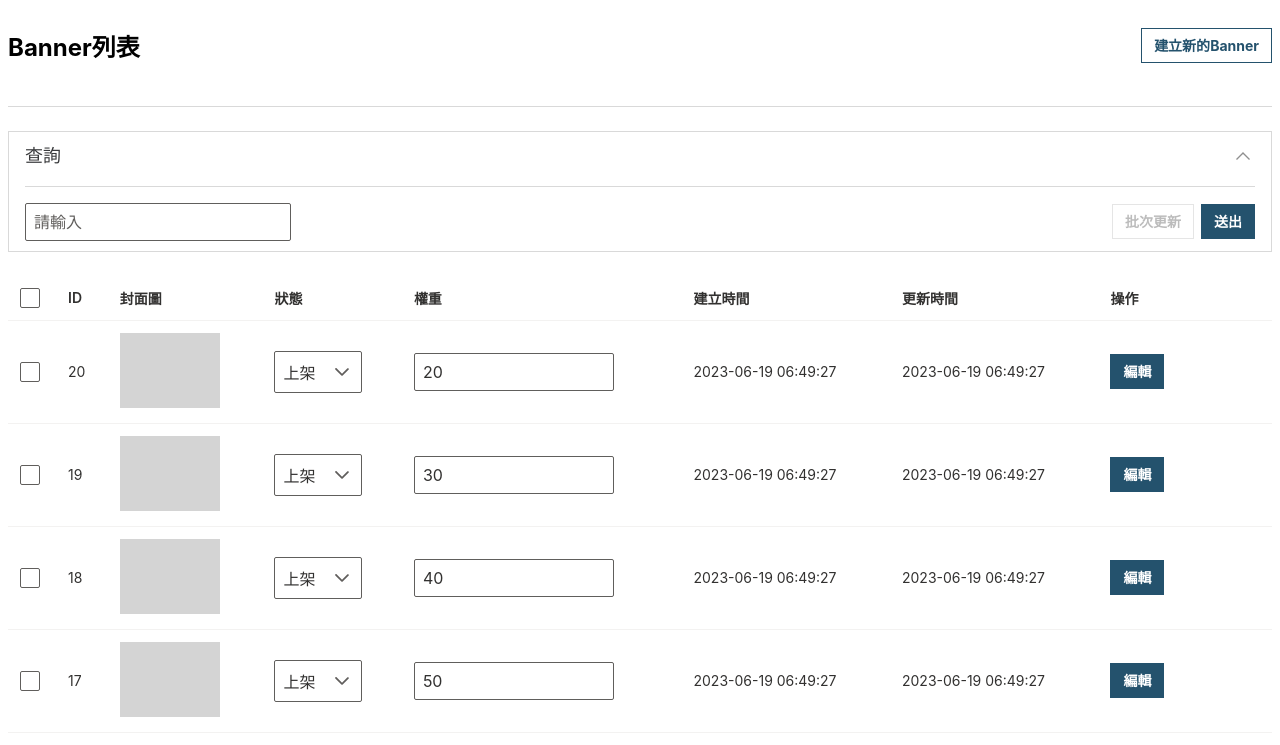
Test: ContentListPage › Banner › update button should be disabled again after changing back to default value
Type "24" into the 2nd field at point(514, 372), box [414,353,614,391]
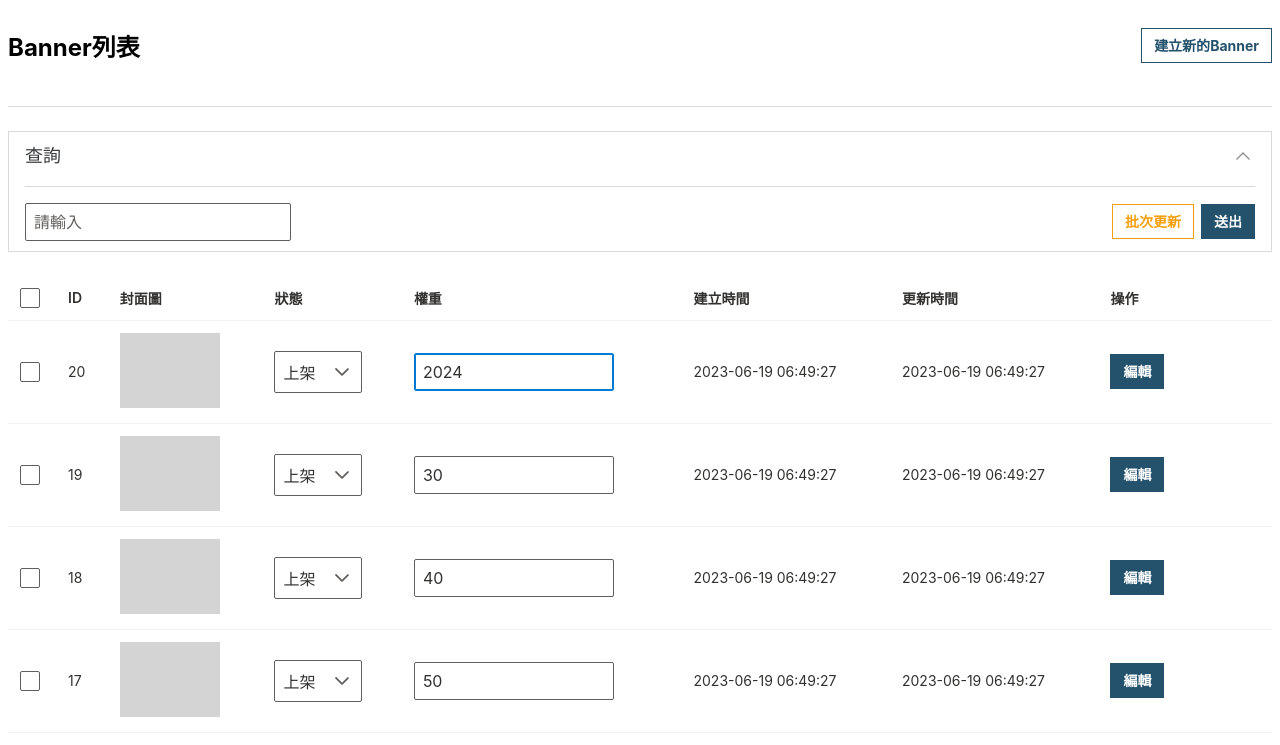
Replace the text in the 2nd field with "20" at point(514, 372), box [414,353,614,391]
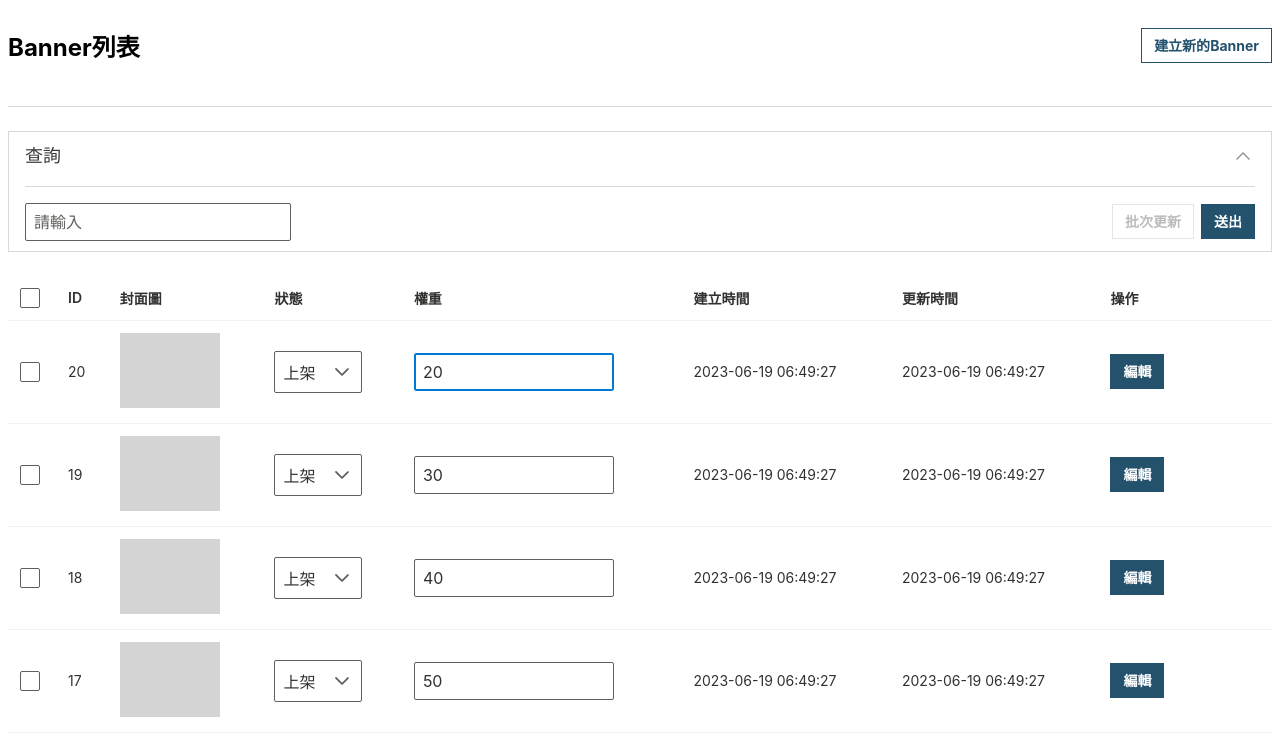
expect the button "批次更新" is disabled: met, box [1112,204,1194,239]
